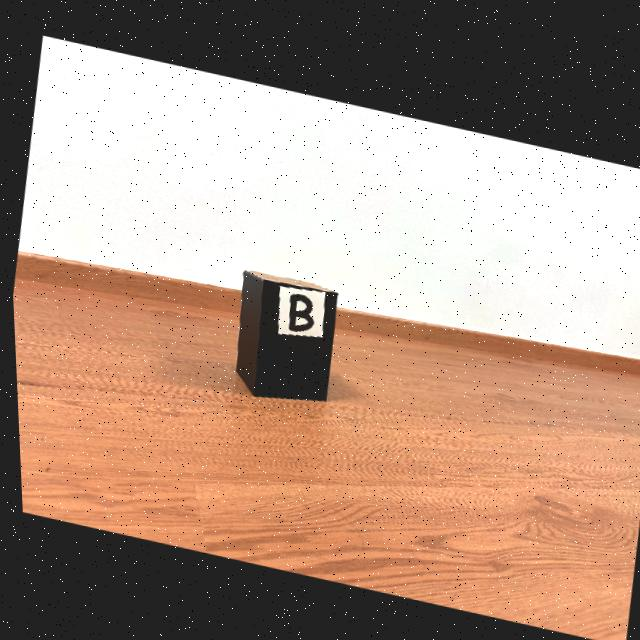B: (286, 290, 311, 328)
